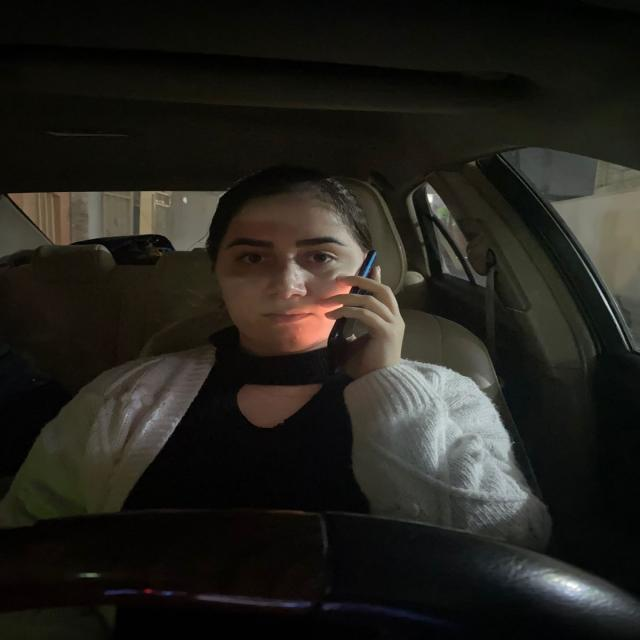mobile: (322, 250, 384, 374)
person: (210, 162, 393, 378)
